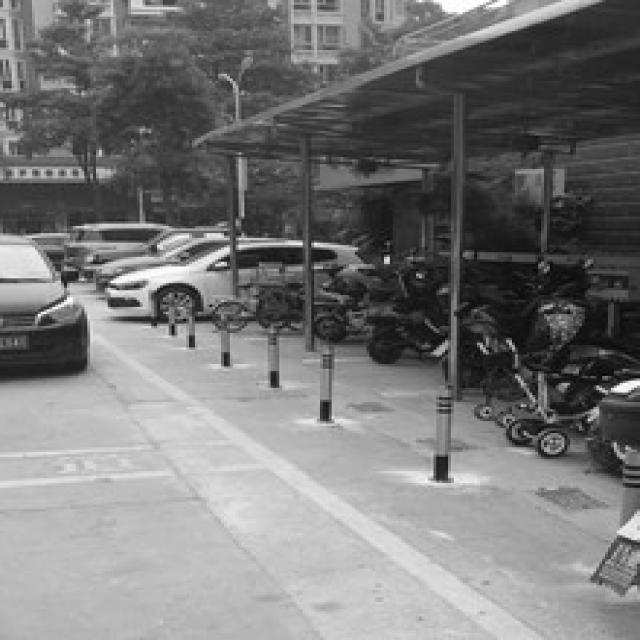car: (99, 236, 361, 321), (0, 231, 90, 371)
warning_column: (424, 381, 456, 483), (311, 340, 335, 421), (256, 319, 282, 385)
